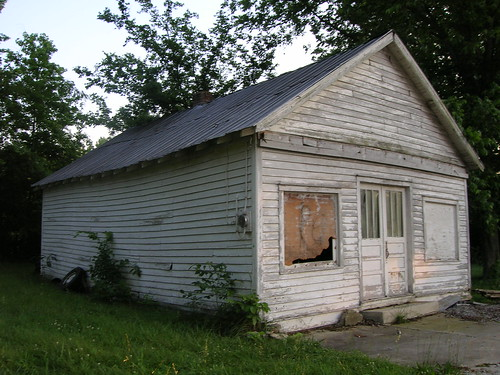building: (40, 33, 480, 322)
door: (354, 186, 416, 308)
grass: (1, 283, 324, 375)
tree: (96, 4, 252, 124), (268, 5, 500, 69), (1, 22, 74, 204)
window: (273, 188, 342, 274)
